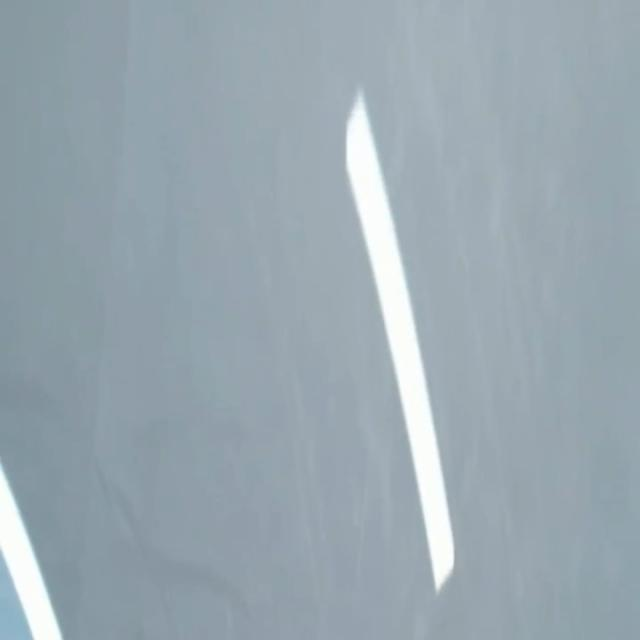center: (347, 93, 453, 591)
left: (0, 463, 62, 639)
